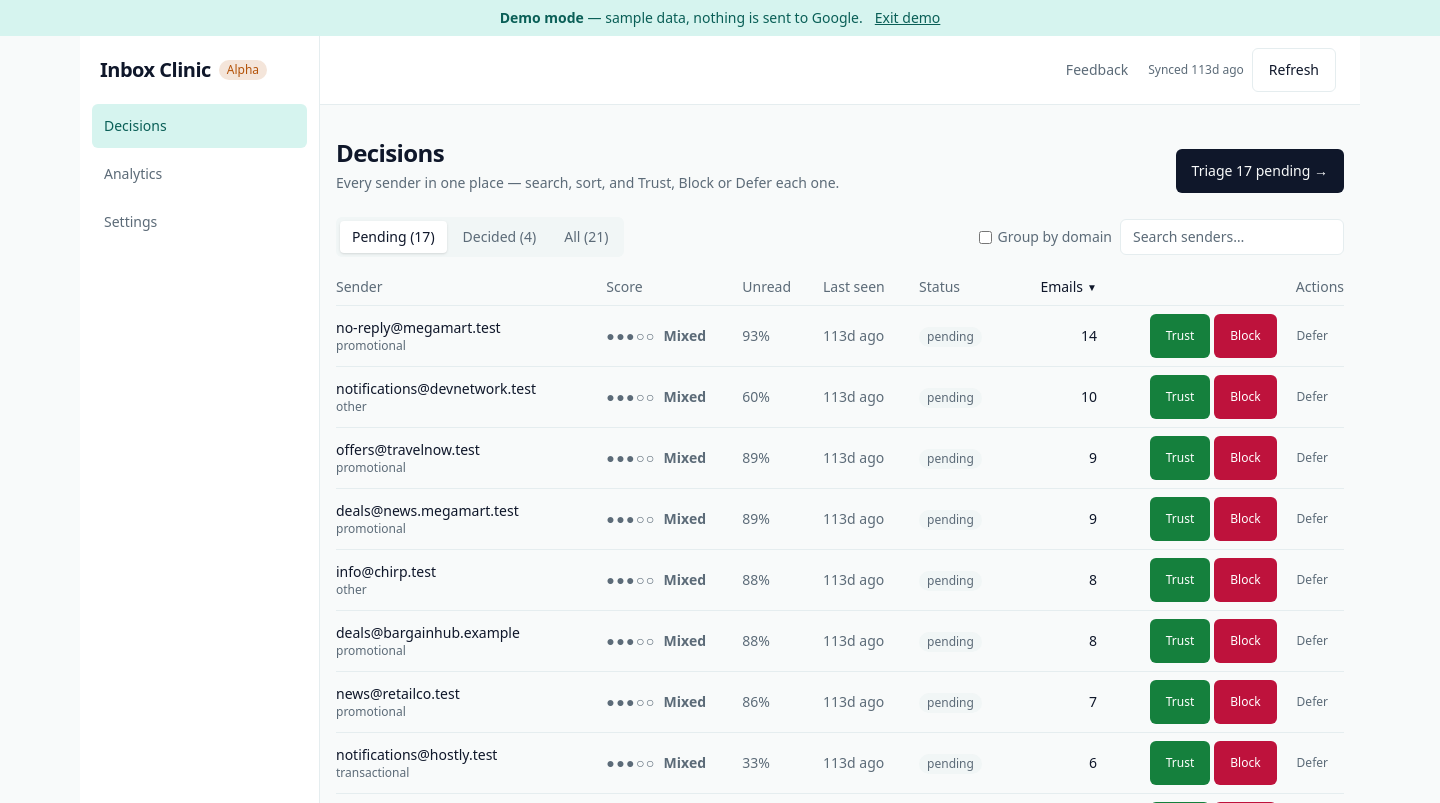
Test case: App › demo mode renders a populated dashboard, the demo banner, and an exit
The width and height of the screenshot is (1440, 803).
Expected: the text "Demo mode" is shown, [500,8,584,27]
Expected: the button "Exit demo" is shown, [875,8,940,28]
Click the tab "all (21)".
click(586, 237)  # box [552,221,620,253]
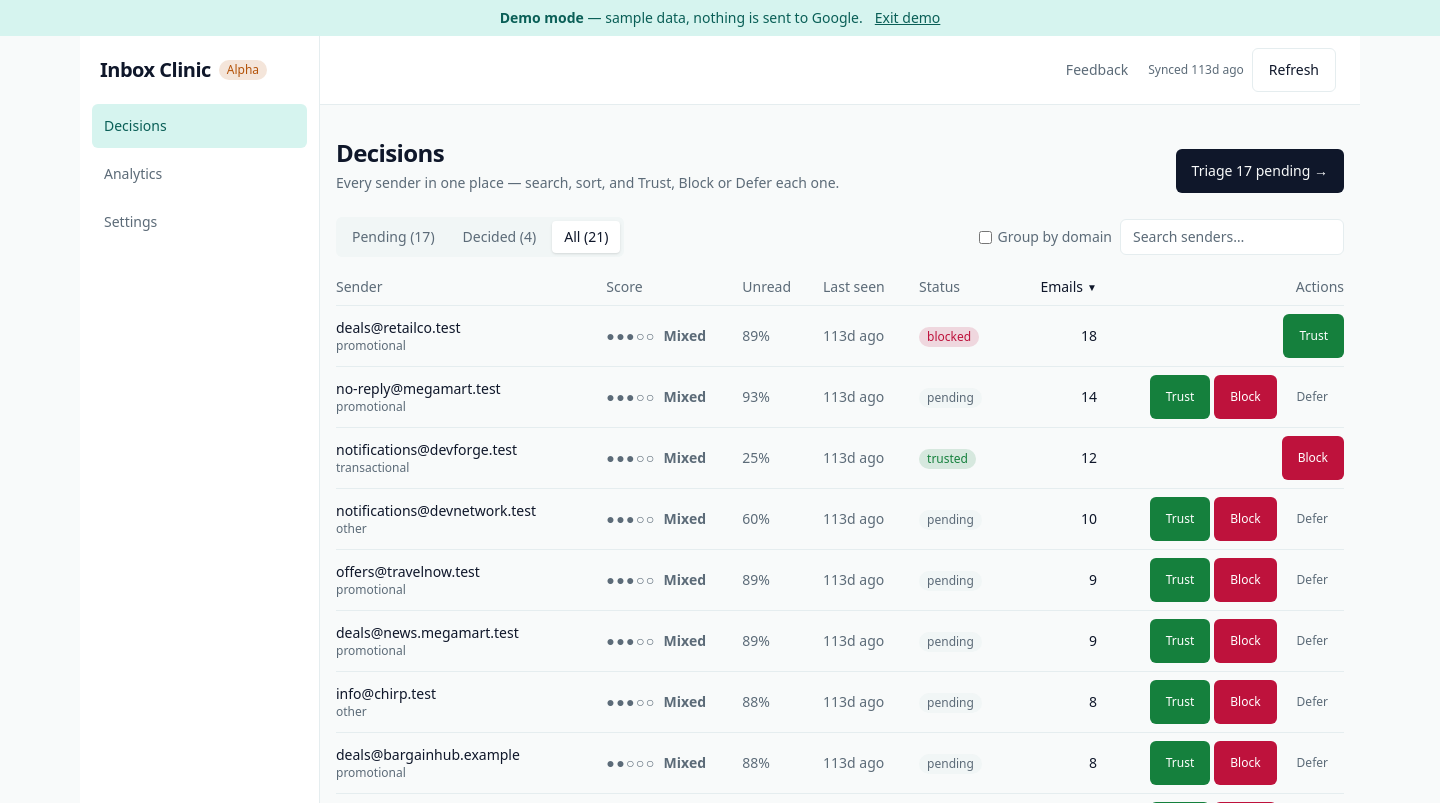
Now the text "deals@retailco.test" is shown, box [336,318,460,337]
